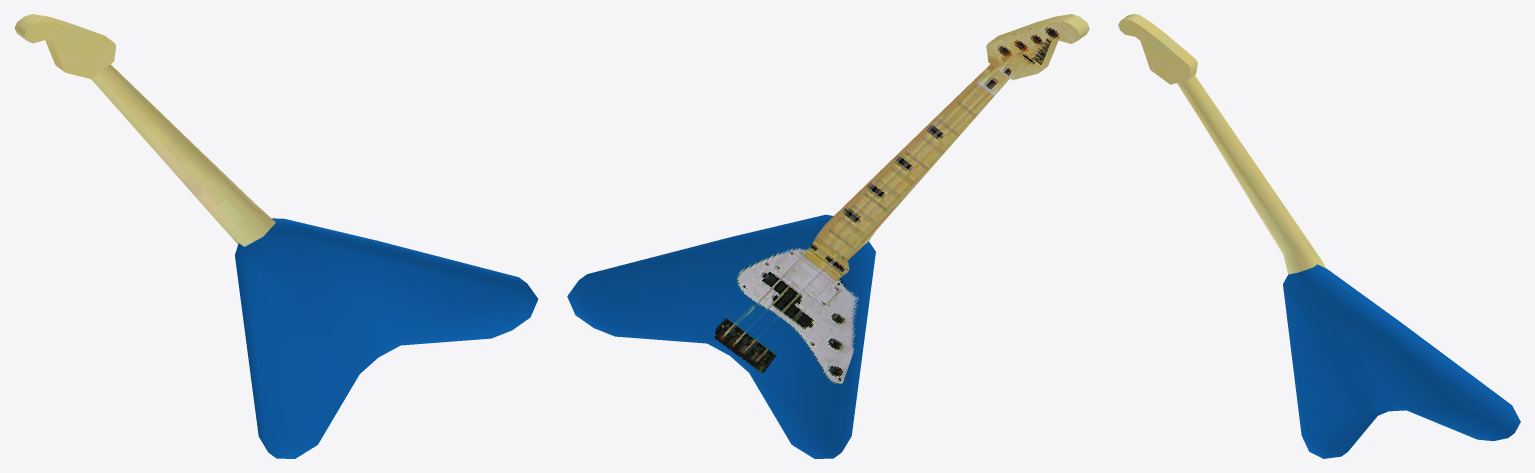
Rendered from ps2_save-icons_rocknmegastage.glb.
3 views of the same model, side by side, from view 1: azimuth 30°, elevation 25°; view 2: azimuth 150°, elevation 25°; view 3: azimuth 330°, elevation 25° (orthographic). The views are drawn at different scales.
Visible parts, largest first — view 1: rockn.ico; view 2: rockn.ico; view 3: rockn.ico.
Part boxes in pixels (left/top/right/bottom): rockn.ico: left=14, top=14, right=538, bottom=458; rockn.ico: left=567, top=14, right=1089, bottom=458; rockn.ico: left=1118, top=14, right=1520, bottom=458.
Bounding box in the file's own units: 4.13 × 3.83 × 0.2754.
1 material, 1 textured.
